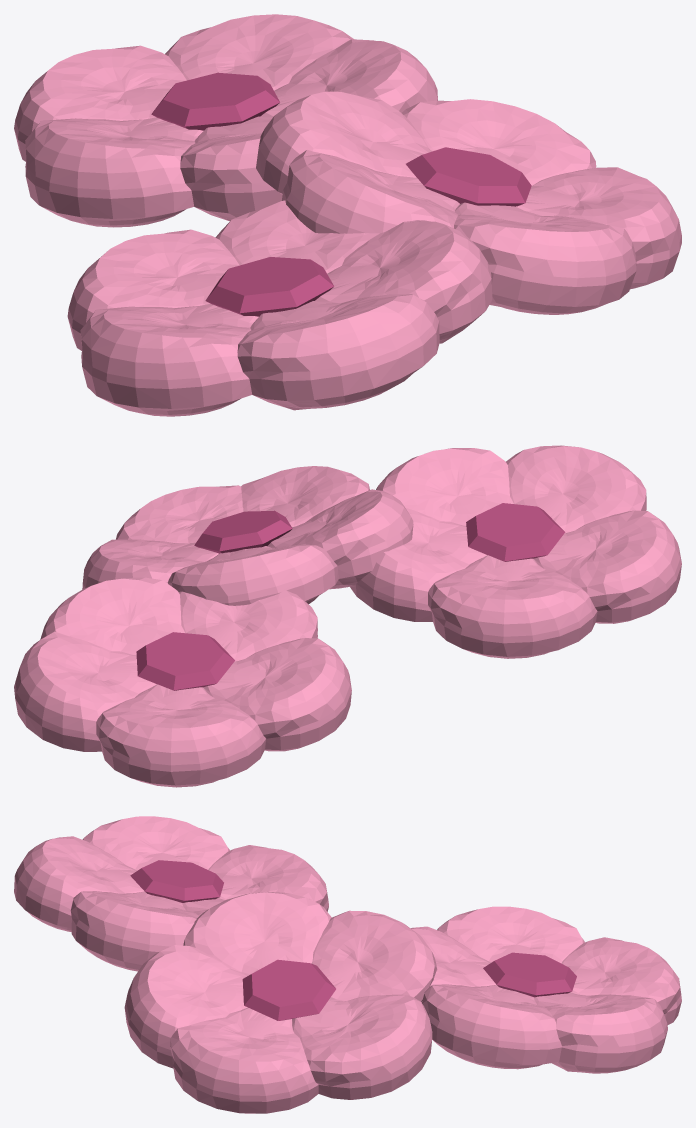
The model's file is Flor3.obj.
3 renders of one model, top to bottom at view 1: azimuth 30°, elevation 25°; view 2: azimuth 150°, elevation 25°; view 3: azimuth 270°, elevation 25°, orthographic. The views are drawn at different scales.
Parts seen in each view (by area): view 1: Sphere.006, Sphere.004, Sphere.005, Cone.006, Cone.005, Cone.004; view 2: Sphere.005, Sphere.006, Sphere.004, Cone.006, Cone.005, Cone.004; view 3: Sphere.004, Sphere.005, Sphere.006, Cone.004, Cone.005, Cone.006.
Boxes of the visible parts, x1,y1,x2,y2 form: Sphere.006: (67, 200, 492, 416); Sphere.004: (256, 91, 681, 314); Sphere.005: (14, 14, 437, 227); Cone.006: (205, 257, 334, 316); Cone.005: (151, 72, 279, 130); Cone.004: (406, 147, 531, 206); Sphere.005: (14, 577, 351, 787); Sphere.006: (350, 445, 681, 658); Sphere.004: (82, 466, 413, 605); Cone.006: (466, 503, 565, 561); Cone.005: (136, 632, 234, 690); Cone.004: (194, 510, 292, 553); Sphere.004: (124, 891, 437, 1113); Sphere.005: (411, 906, 681, 1073); Sphere.006: (14, 816, 328, 971); Cone.004: (242, 959, 335, 1020); Cone.005: (483, 952, 576, 997); Cone.006: (130, 860, 223, 902).
Bounding box in the file's own units: 2.75 × 0.716 × 3.41.
